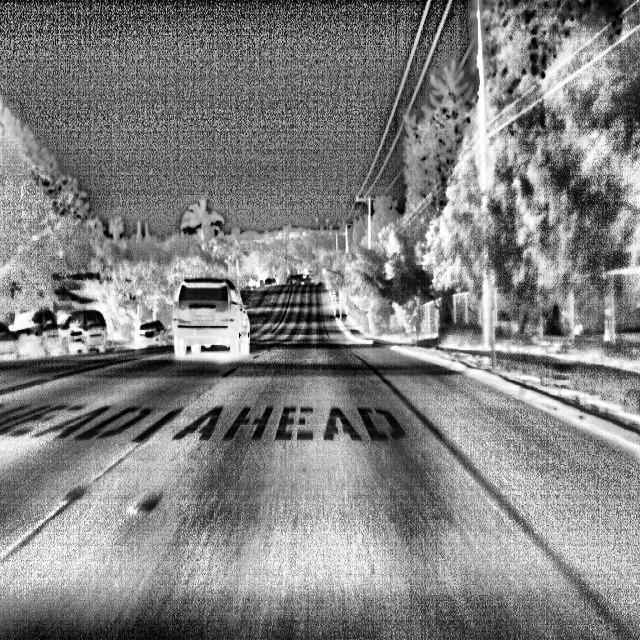car: (168, 271, 254, 362), (56, 304, 114, 354), (13, 306, 68, 358), (128, 309, 172, 351), (1, 306, 30, 358), (284, 267, 323, 291)
